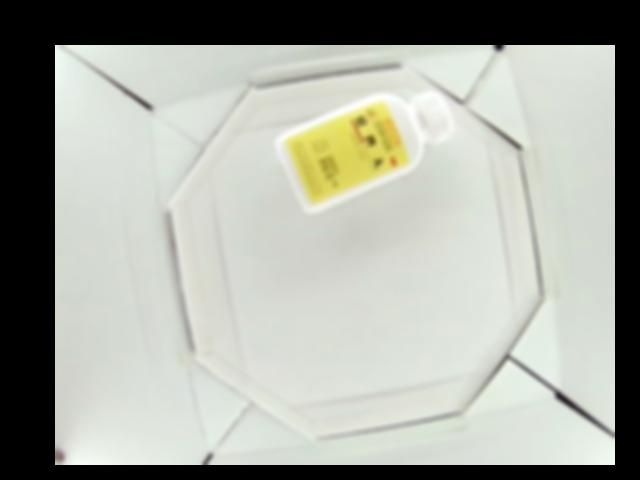Bottle: (274, 87, 453, 211)
